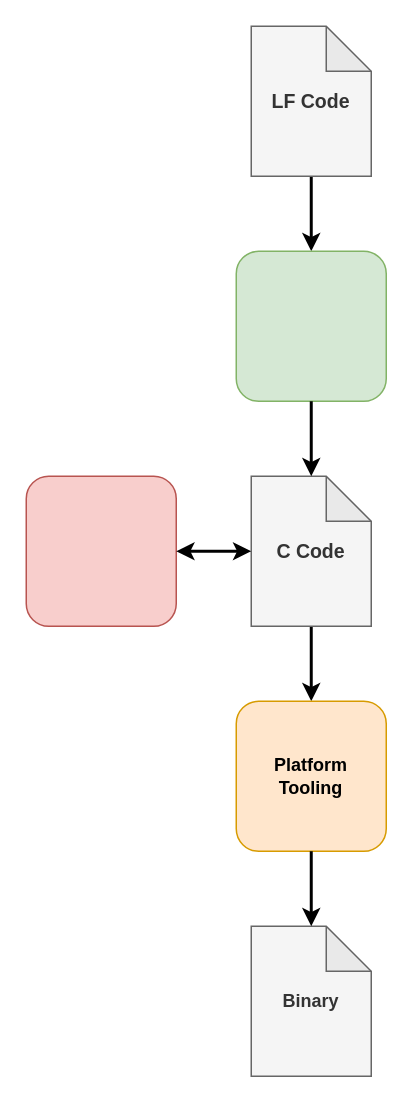
The diagram is 413 pixels wide and 1103 high, and some of its shapes have lost their labels. The shapes that lost their labels are listed below. From the top down, each one's box as (x1, y1, x2, y2) in pixels, then its label:
(235, 250, 386, 401): LFG
(25, 475, 176, 626): reactor-uc
